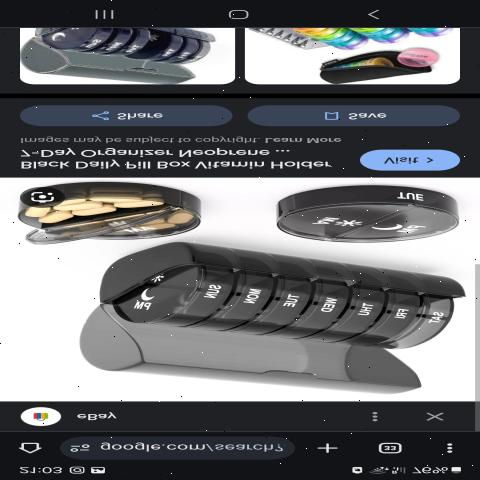PillBox: (18, 184, 233, 255)
